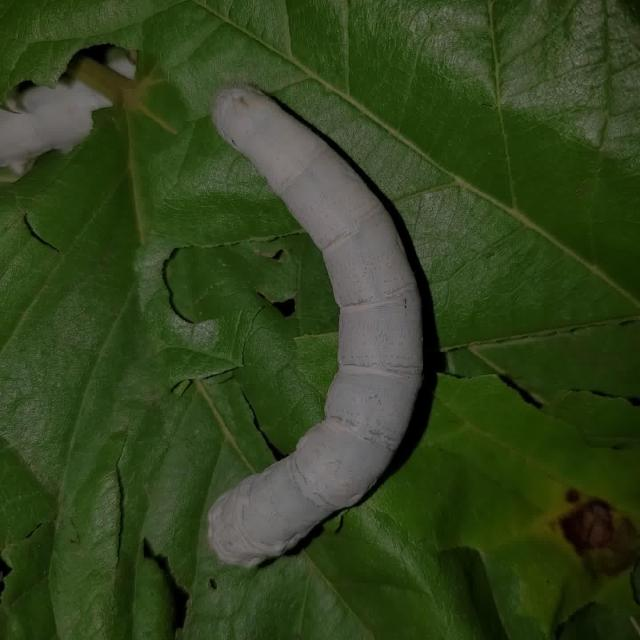Healthy: (194, 79, 433, 574)
